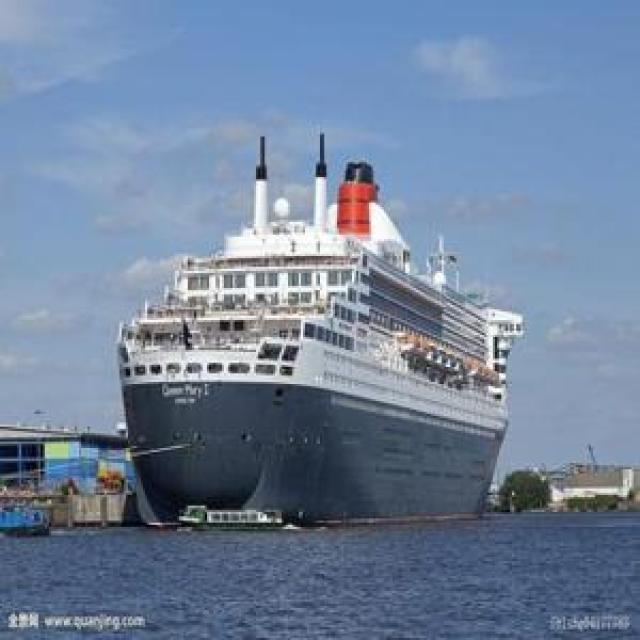houseboat: (176, 504, 292, 535)
passenger ship: (118, 189, 512, 526)
